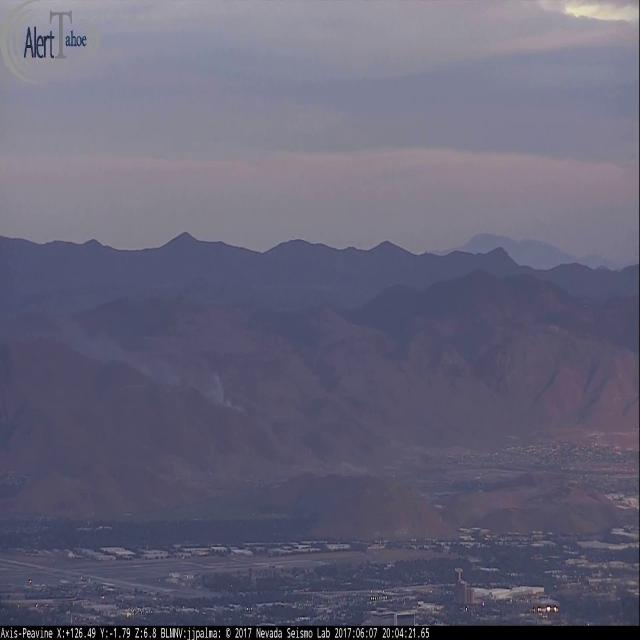smoke: (44, 297, 250, 418)
